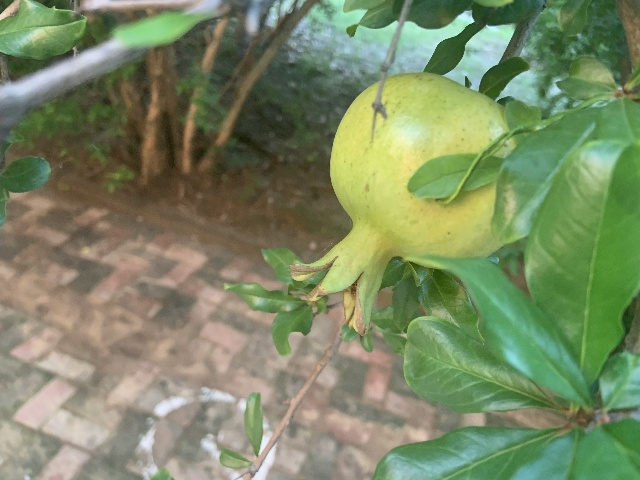mid-growth: (288, 72, 515, 335)
